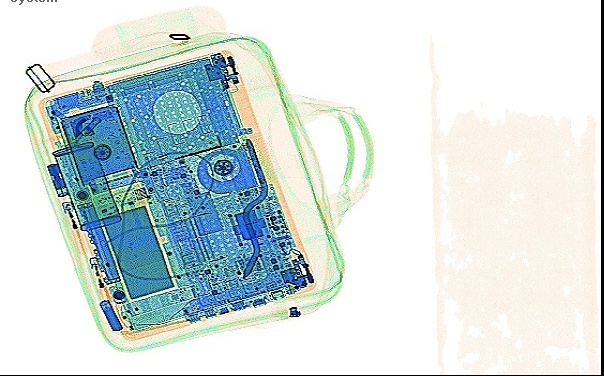lighter: (61, 199, 89, 255), (87, 254, 114, 310)
zippooil: (51, 138, 121, 232)
